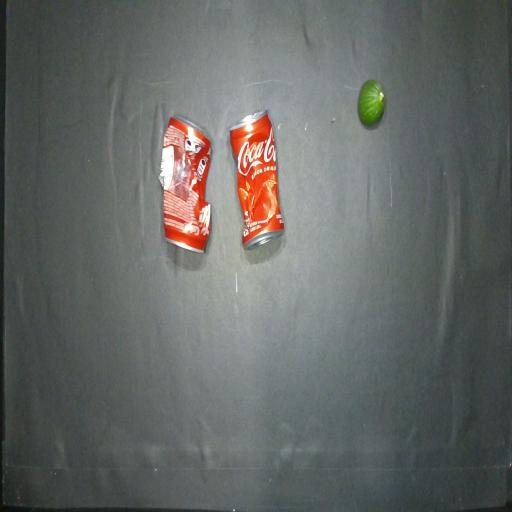higo: (358, 79, 385, 126)
lata_defectuoso: (230, 111, 284, 249), (159, 116, 211, 253)
